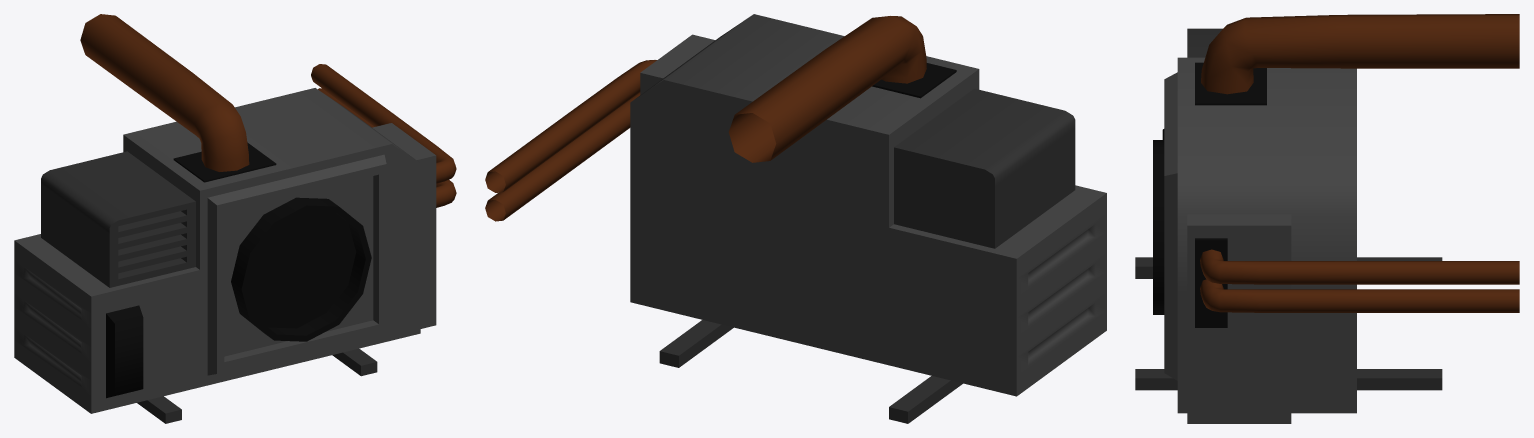
The picture shows the model from 3 angles, left to right: view 1: azimuth 30°, elevation 25°; view 2: azimuth 150°, elevation 25°; view 3: azimuth 270°, elevation 25°; orthographic projection. The views are drawn at different scales.
Visible parts, largest first — view 1: AC_Cube.004; view 2: AC_Cube.004; view 3: AC_Cube.004.
Boxes of the visible parts, x1,y1,x2,y2 form: AC_Cube.004: (14, 14, 456, 423); AC_Cube.004: (485, 14, 1106, 423); AC_Cube.004: (1135, 14, 1519, 423).
Size of the model in its own units: 1.04 by 0.6856 by 0.7709.
